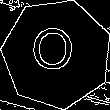O_S: (33, 26, 80, 81)
